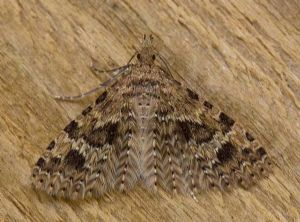Alucitidae: (29, 32, 278, 204)
moth: (27, 30, 276, 202)
